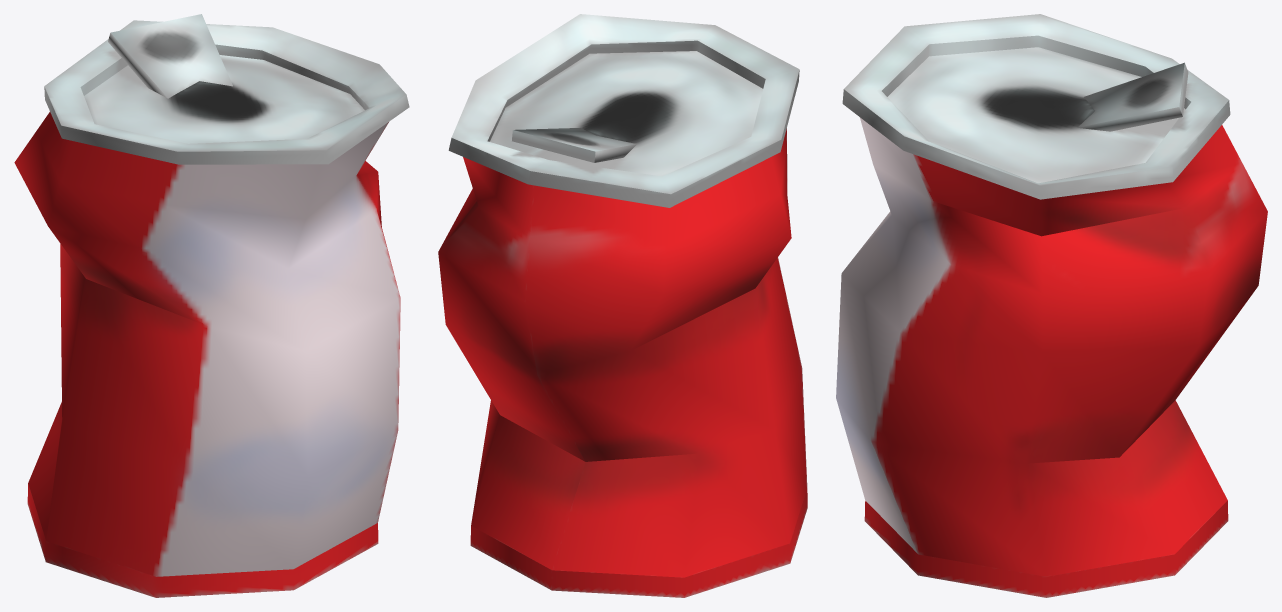
File: Latinha.fbx
3 renders of one model, left to right at view 1: azimuth 30°, elevation 25°; view 2: azimuth 150°, elevation 25°; view 3: azimuth 270°, elevation 25°, orthographic. The views are drawn at different scales.
Visible parts, largest first — view 1: Can; view 2: Can; view 3: Can.
Boxes of the visible parts, x1=… form: Can: x1=14, y1=14, x2=409, y2=597; Can: x1=438, y1=14, x2=807, y2=597; Can: x1=836, y1=14, x2=1267, y2=597.
Bounding box in the file's own units: 15.19 × 19.5 × 16.98.
